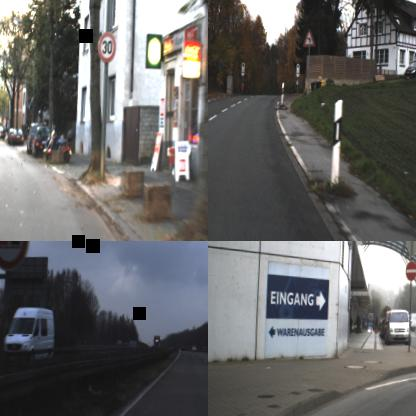NO ENTRY: (404, 259, 416, 281)
bend right: (302, 26, 316, 47)
no overtaking -trucks-: (0, 241, 29, 271)
speed limit 30: (96, 30, 116, 63)
